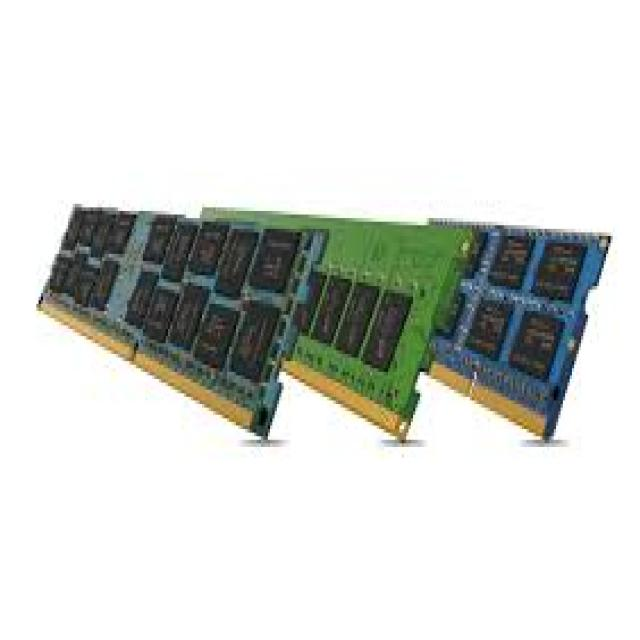Ram: (44, 144, 610, 556)
